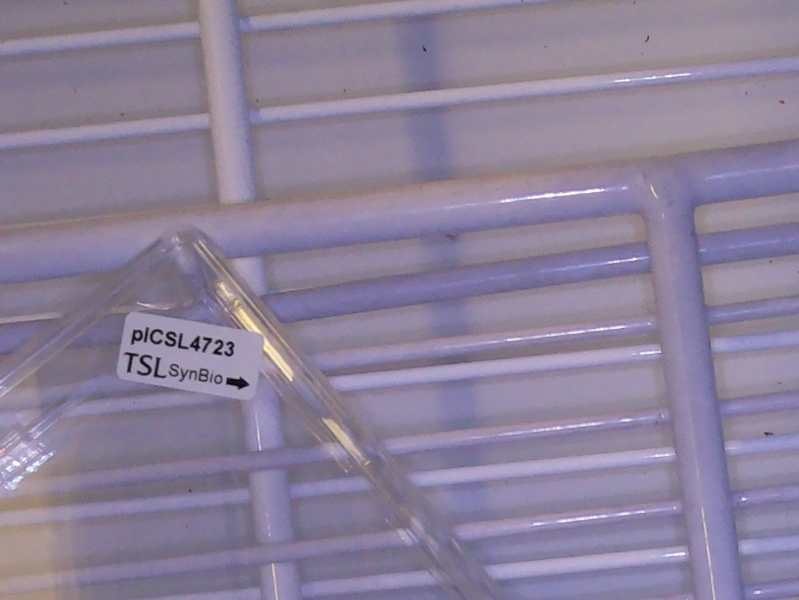plate: (1, 223, 503, 600)
